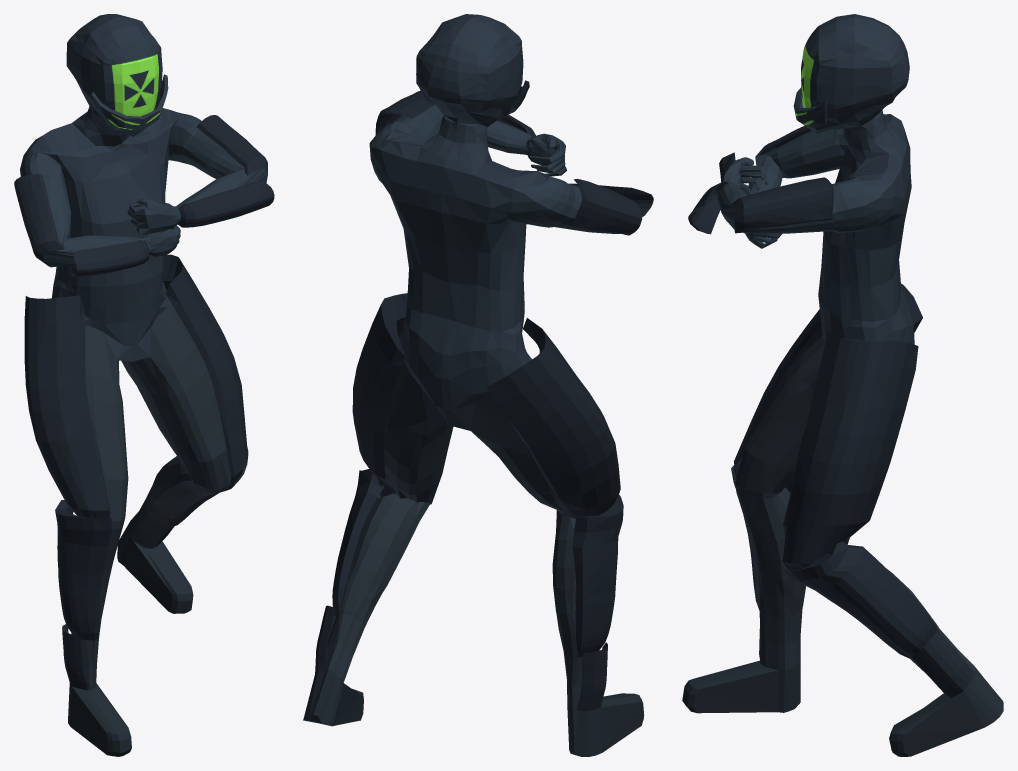
File: Bastion_WF_000008.obj
The picture shows the model from 3 angles, left to right: view 1: azimuth 30°, elevation 25°; view 2: azimuth 150°, elevation 25°; view 3: azimuth 270°, elevation 25°; orthographic projection. The views are drawn at different scales.
Visible parts, largest first — view 1: Cube.002; view 2: Cube.002; view 3: Cube.002.
Part boxes in pixels (bbox=[...]): Cube.002: bbox=[14, 14, 274, 756]; Cube.002: bbox=[303, 14, 653, 756]; Cube.002: bbox=[682, 14, 1003, 756].
Size of the model in its own units: 1.37 by 3.74 by 1.5.
